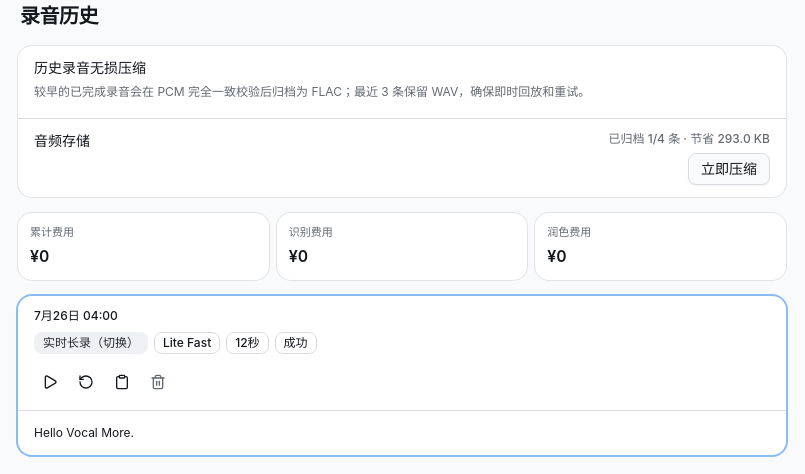
history settings copy feedback › falls back to execCommand when the clipboard write is rejected
Click the button named "复制 Hello Vocal More." at (122, 382), box x1=106 y1=366 x2=138 y2=398
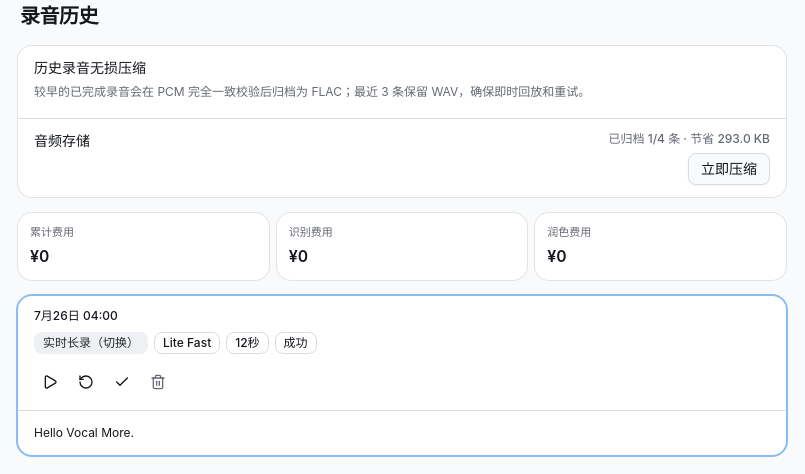
Now the button named "已复制 Hello Vocal More." is shown, box x1=106 y1=366 x2=138 y2=398
